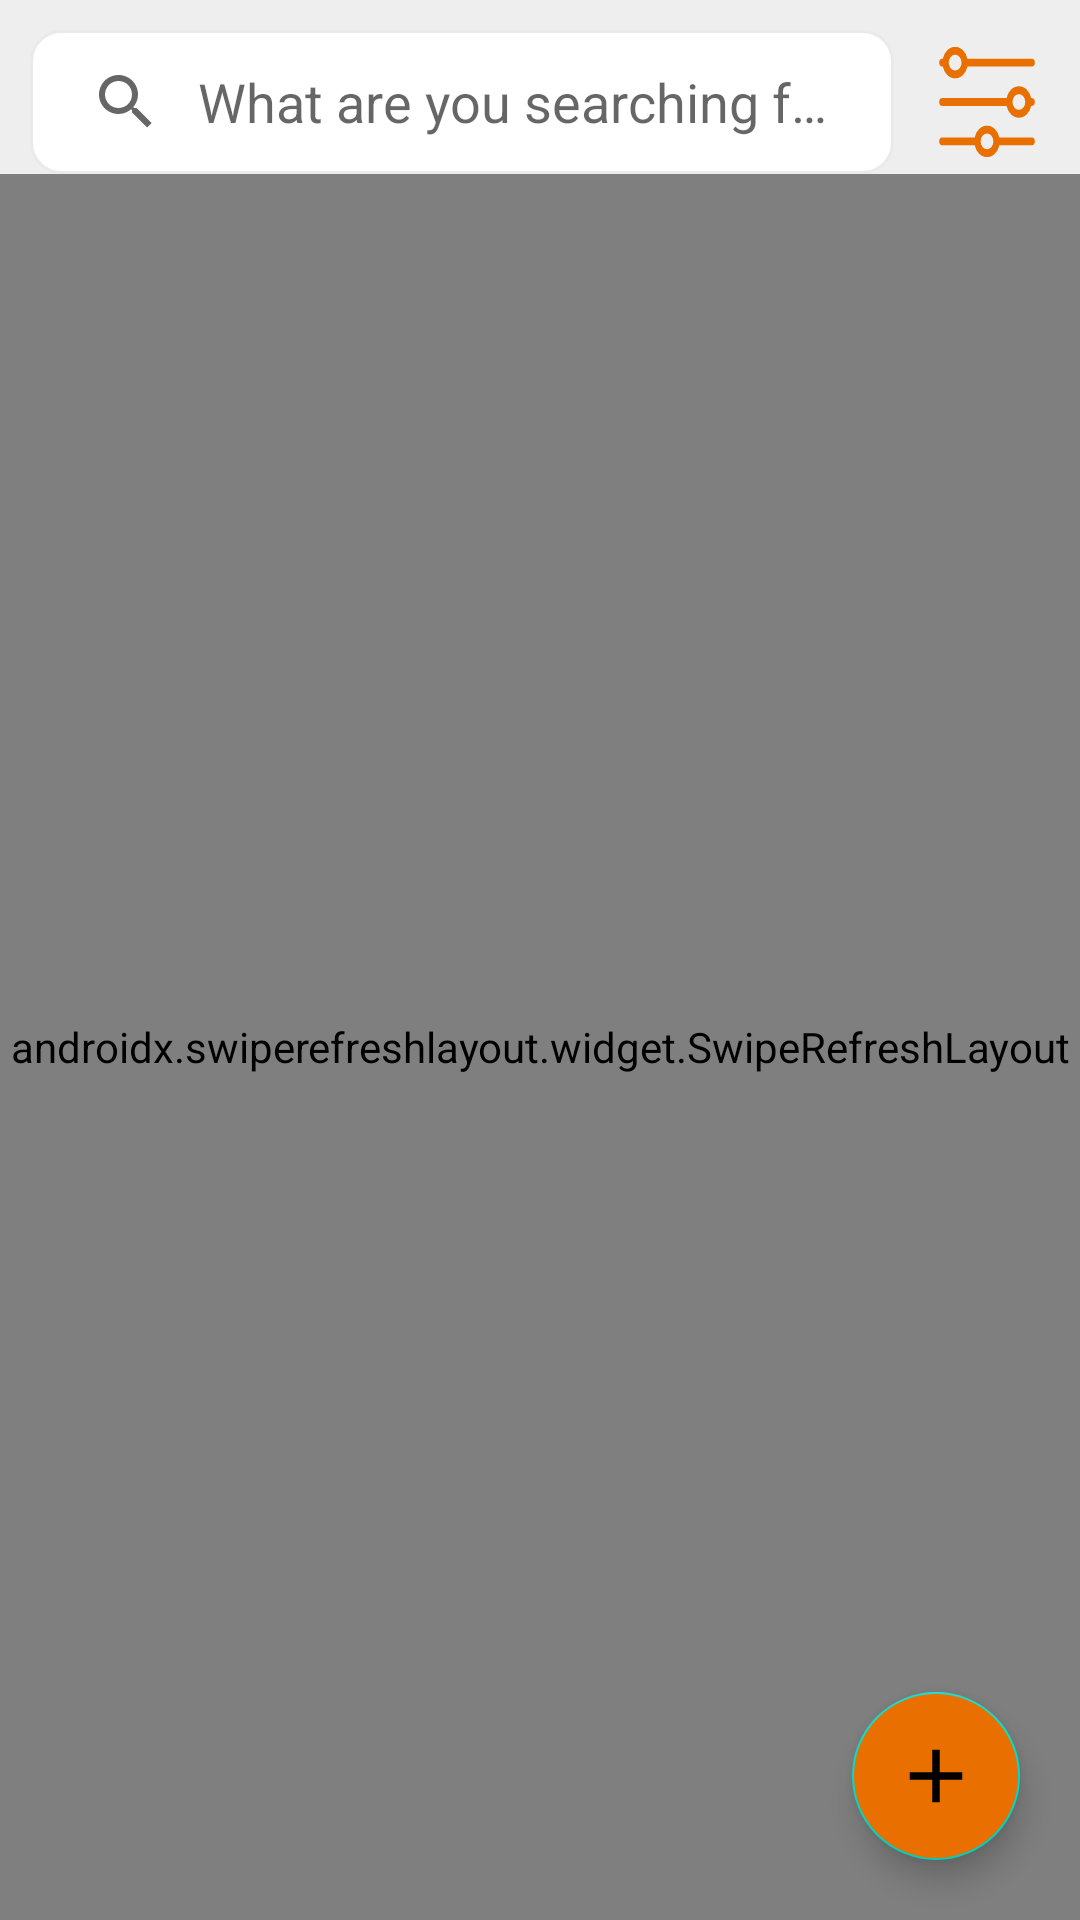

Icon click points for this 1080px x 1920px phone screenshot, format (x,y):
filter: (987,102)
plus: (936,1776)
